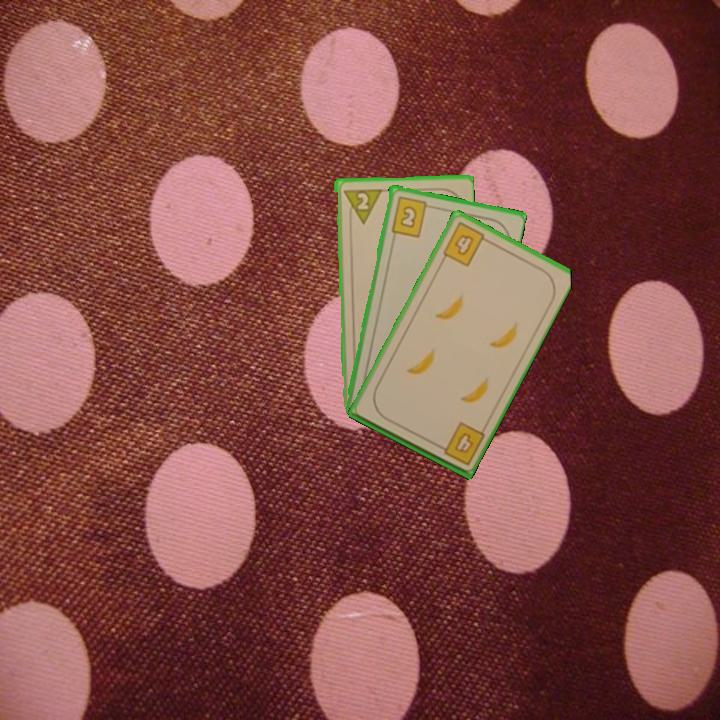2b: (387, 193, 435, 239)
2p: (339, 185, 383, 227)
4b: (439, 218, 492, 270), (432, 418, 487, 468)
